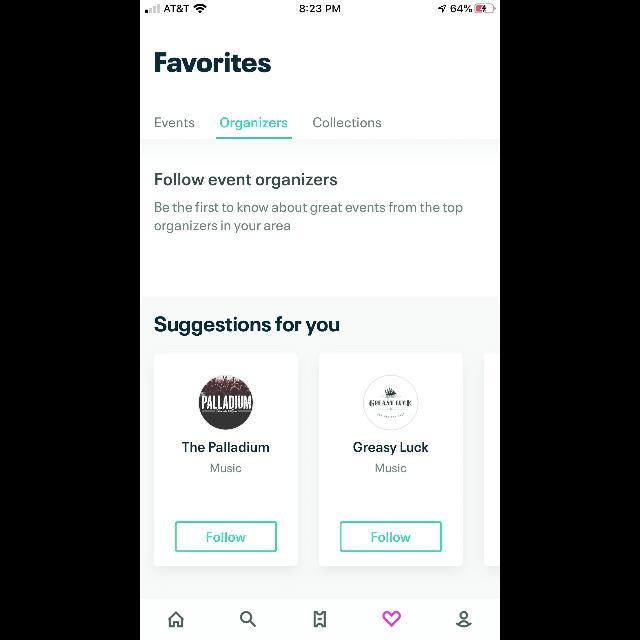icon: (382, 611, 402, 627), (168, 610, 184, 628), (456, 610, 472, 628), (240, 611, 256, 627), (314, 610, 326, 628)
image: (198, 375, 254, 431), (363, 375, 419, 431)
text: (155, 202, 463, 234), (154, 316, 340, 336), (155, 173, 337, 189), (155, 52, 271, 72), (354, 442, 428, 454), (182, 442, 270, 452), (220, 118, 288, 130), (313, 118, 381, 128), (156, 117, 194, 127), (210, 463, 242, 472), (376, 463, 406, 472)
textbutton: (175, 522, 277, 552), (340, 522, 442, 552)
uppertaskbar: (140, 0, 500, 14)
